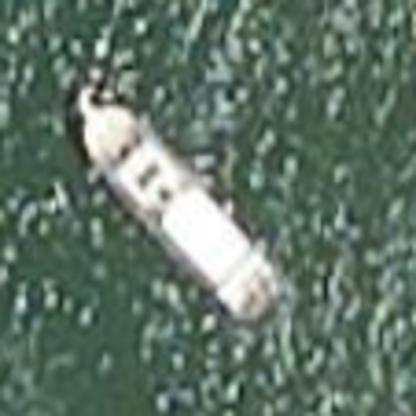ship: (60, 73, 288, 328)
